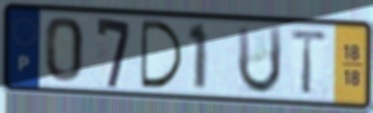0: (42, 15, 86, 86)
1: (185, 22, 212, 93)
7: (95, 14, 131, 90)
D: (138, 18, 186, 91)
T: (287, 27, 331, 97)
U: (235, 23, 285, 98)
